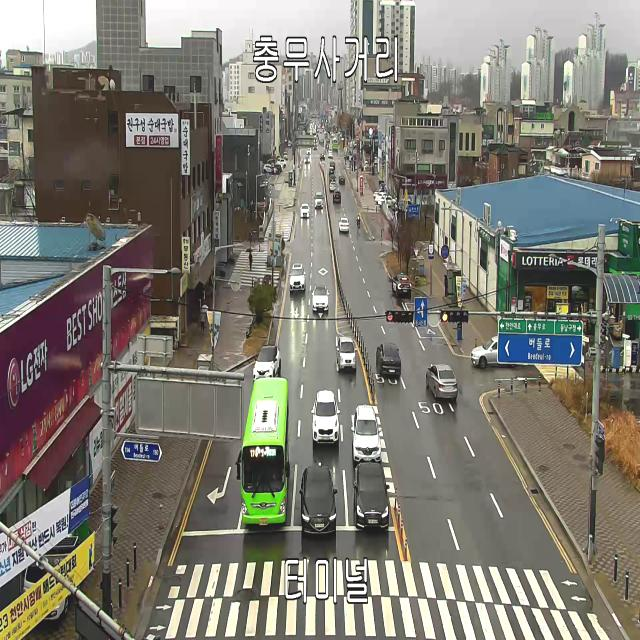Bus: (235, 378, 290, 526)
Car: (299, 464, 338, 534), (353, 462, 390, 528), (351, 406, 382, 462), (311, 390, 341, 443), (470, 335, 515, 369), (426, 364, 460, 398), (252, 345, 281, 380), (376, 342, 401, 377), (337, 337, 357, 370), (289, 263, 306, 291), (392, 274, 412, 297), (312, 285, 329, 311), (378, 195, 396, 207), (262, 164, 278, 174), (314, 192, 324, 208), (339, 218, 349, 232), (300, 204, 310, 218), (376, 192, 388, 202), (373, 188, 385, 197), (333, 191, 341, 203), (277, 159, 286, 169), (332, 138, 338, 150), (339, 175, 346, 185), (329, 182, 336, 190), (330, 161, 336, 170), (329, 175, 336, 182), (283, 152, 288, 161), (304, 156, 310, 163), (329, 167, 334, 174), (320, 154, 325, 160), (328, 152, 333, 158), (307, 148, 311, 155), (374, 156, 377, 164), (328, 148, 332, 154), (313, 146, 318, 150), (314, 142, 318, 146), (314, 139, 317, 142)
Motorcycle: (354, 211, 362, 235)
Truck: (24, 536, 80, 620)
